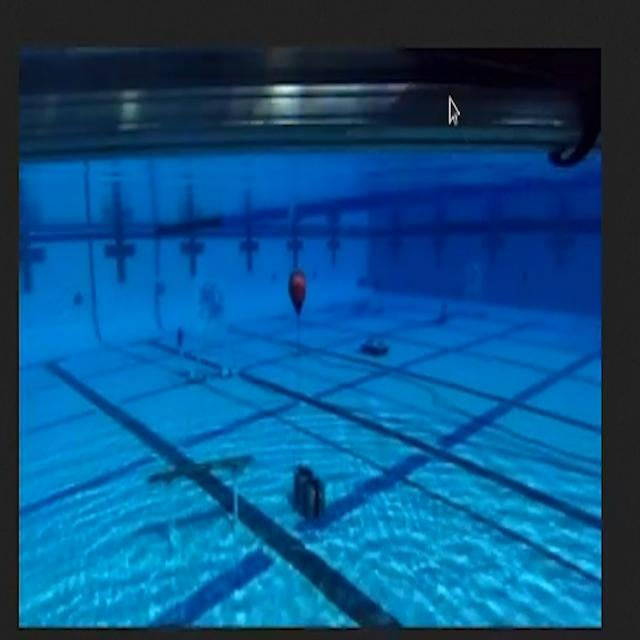Buoy: (286, 263, 312, 324)
